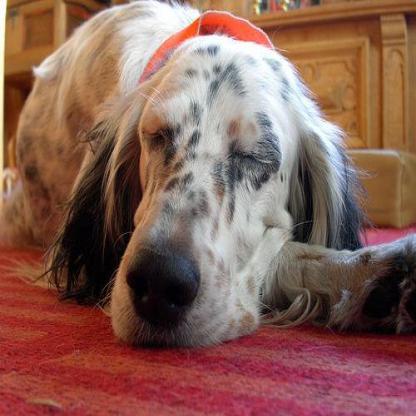English_setter: (7, 0, 414, 352)
